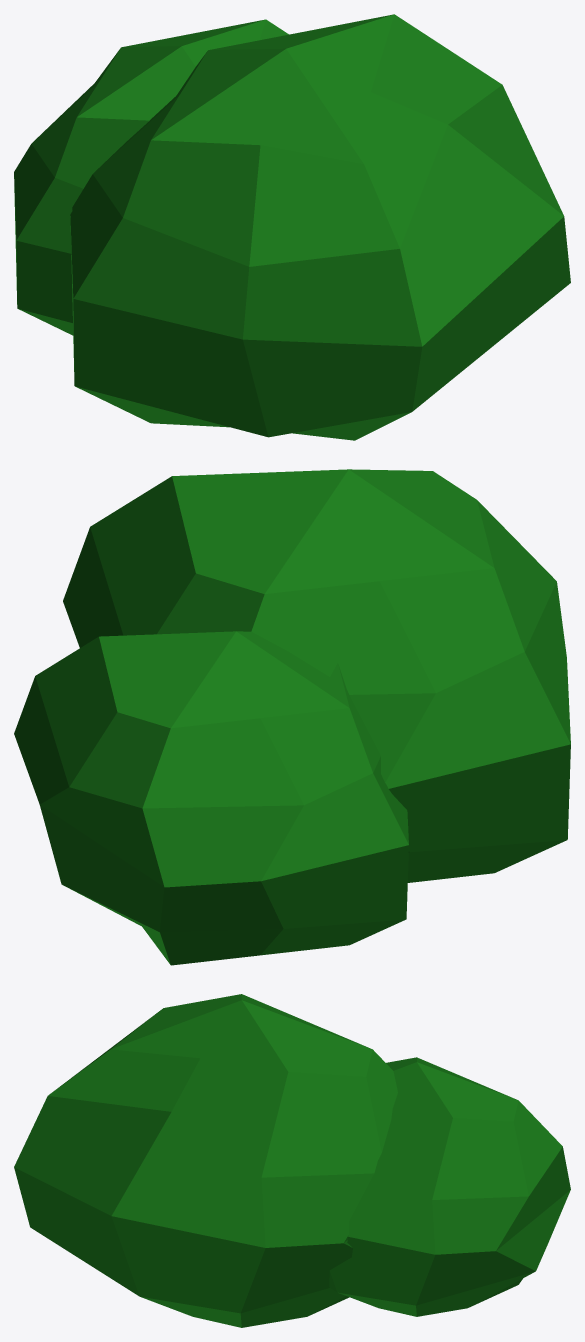
The model's file is bush1.fbx.
3 renders of one model, top to bottom at view 1: azimuth 30°, elevation 25°; view 2: azimuth 150°, elevation 25°; view 3: azimuth 270°, elevation 25°, orthographic. The views are drawn at different scales.
Parts seen in each view (by area): view 1: bush_1; view 2: bush_1; view 3: bush_1.
Boxes of the visible parts, x1=… form: bush_1: x1=14, y1=14, x2=570, y2=440; bush_1: x1=14, y1=469, x2=570, y2=965; bush_1: x1=14, y1=994, x2=570, y2=1327.
Bounding box in the file's own units: 2.41 × 1.72 × 3.01.
